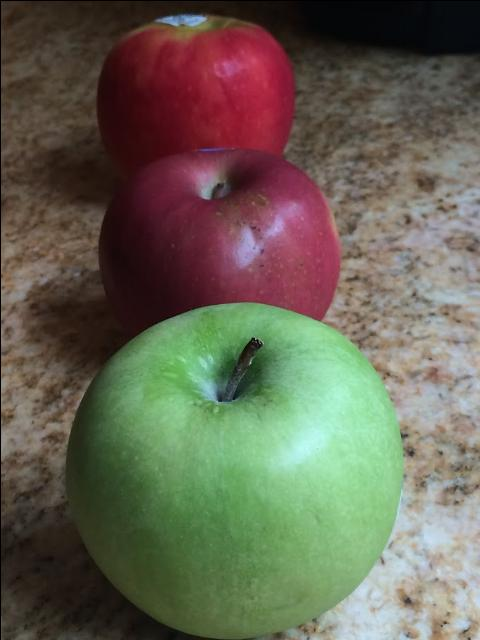Apples: (96, 148, 338, 318), (96, 13, 296, 154)
